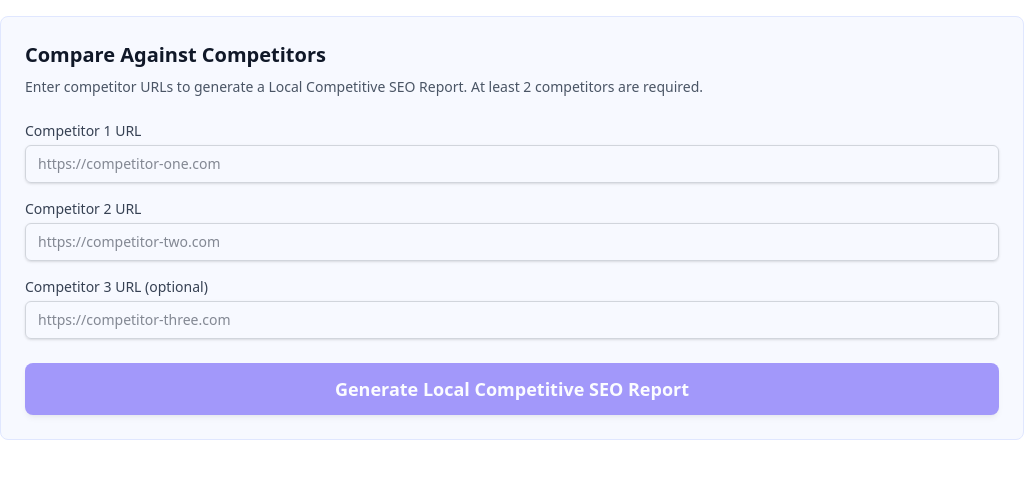
Test case: CompetitorForm (US-6.2) › validates URLs and shows error for invalid URLs
Type "not-a-url" into the field labelled "Competitor 1 URL" at (512, 164), box [25,145,999,183]
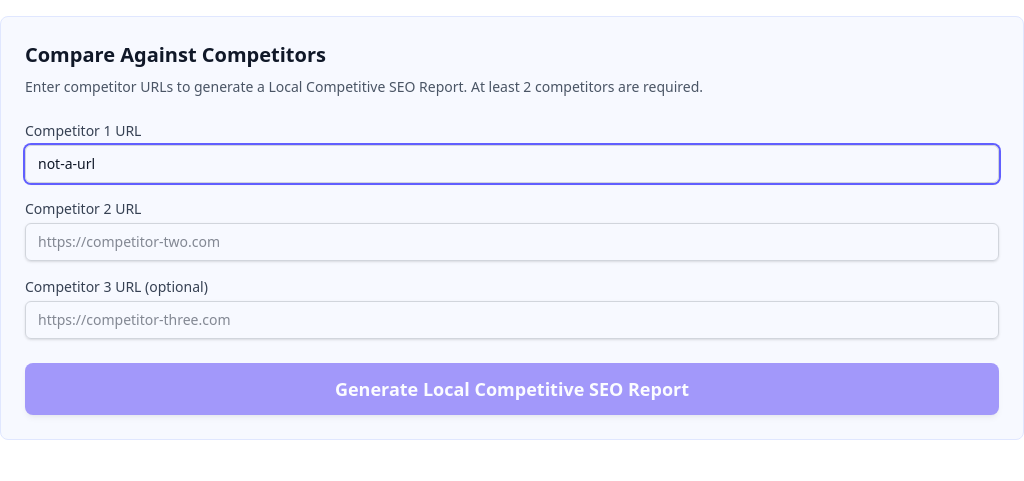
Press Tab
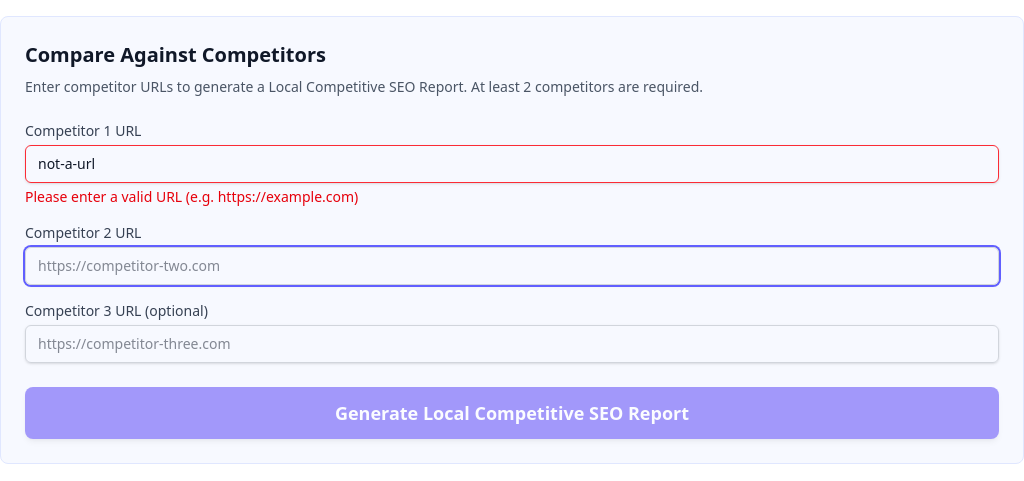
Expected: the text "Please enter a valid URL (e.g. https://example.com)" is shown, [25,187,358,206]
